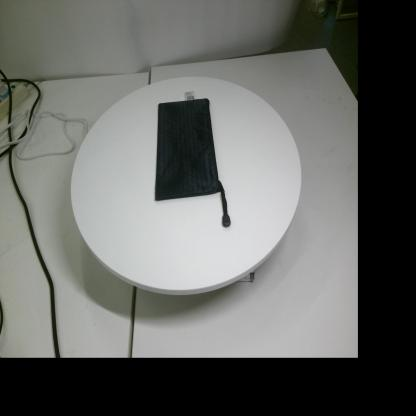Stationery: (155, 91, 231, 227)
